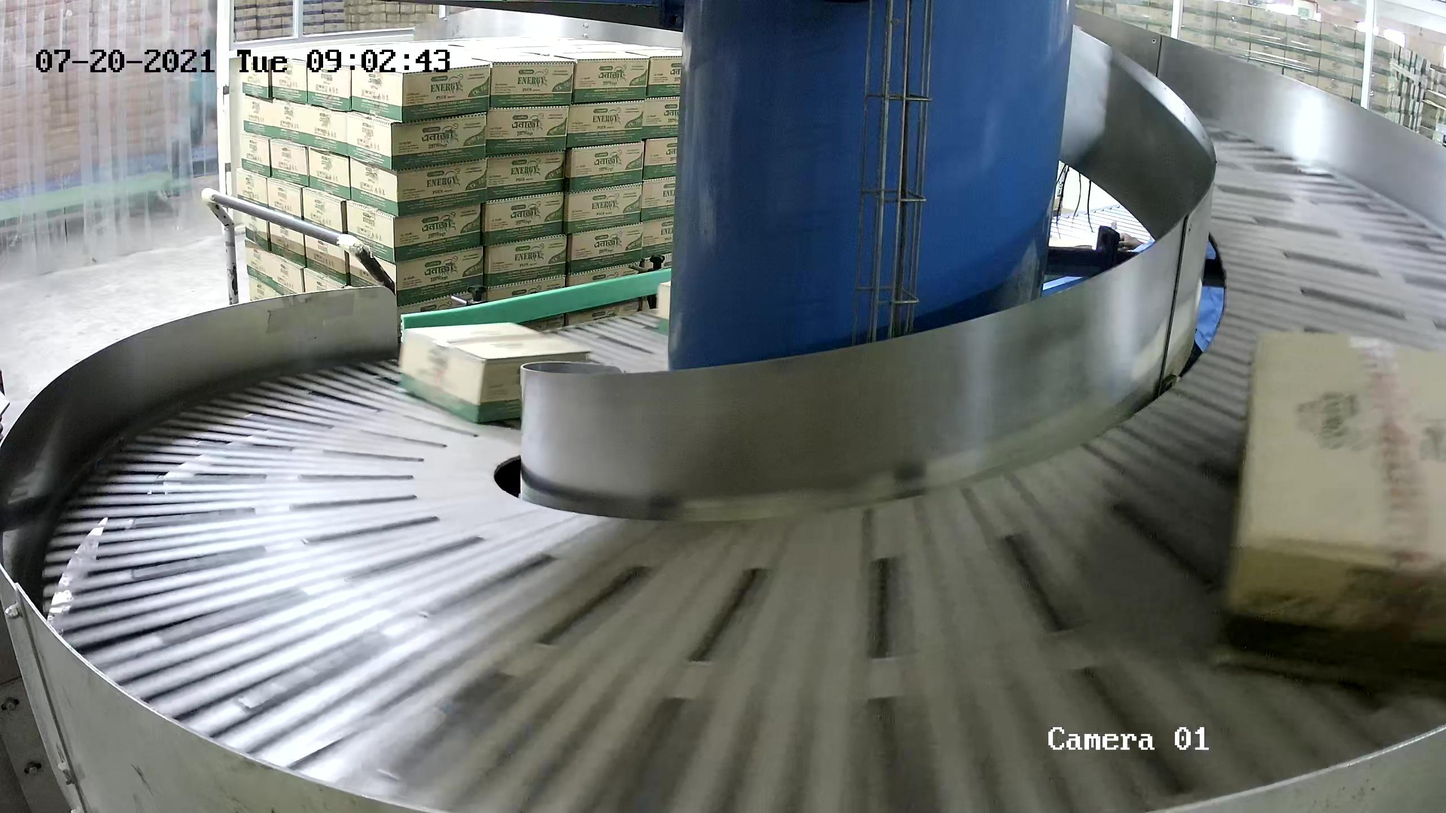Box: (1208, 325, 1446, 683), (397, 321, 593, 423)
